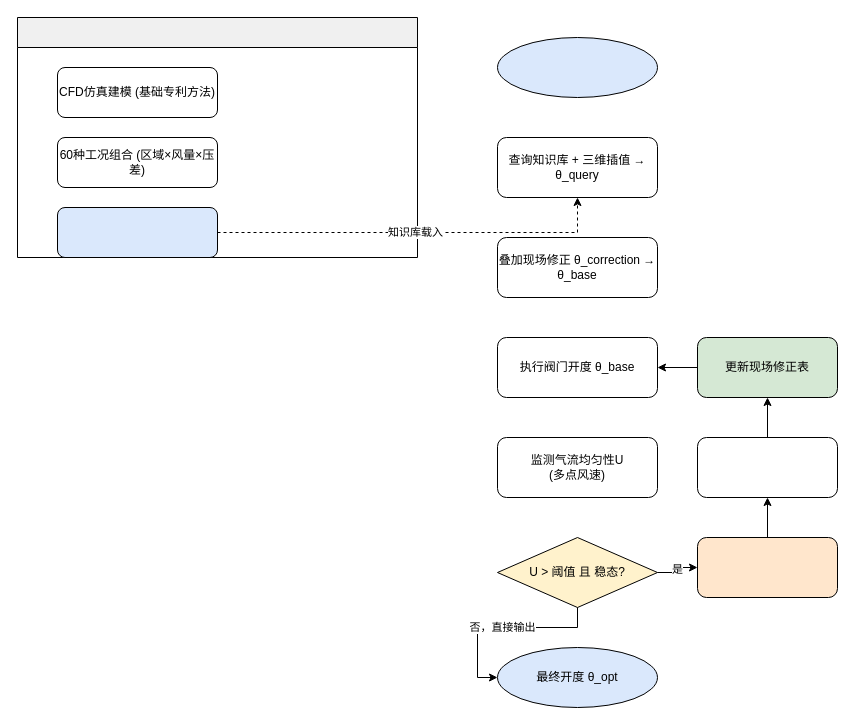
Image size: 855x725. Some labels were removed from this diagram. Each missing label, with the box of its shape:
θ_final = θ_base + Δθ: (696, 436, 838, 498)
多工况知识库 (查询表): (56, 206, 218, 258)
实时工况输入: 区域、风量、压差: (496, 36, 658, 98)
是，PID/极值寻优微调 Δθ: (696, 536, 838, 598)
离线准备: (16, 16, 418, 258)
